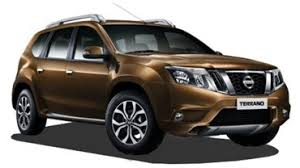Nissan: (13, 23, 276, 137)
